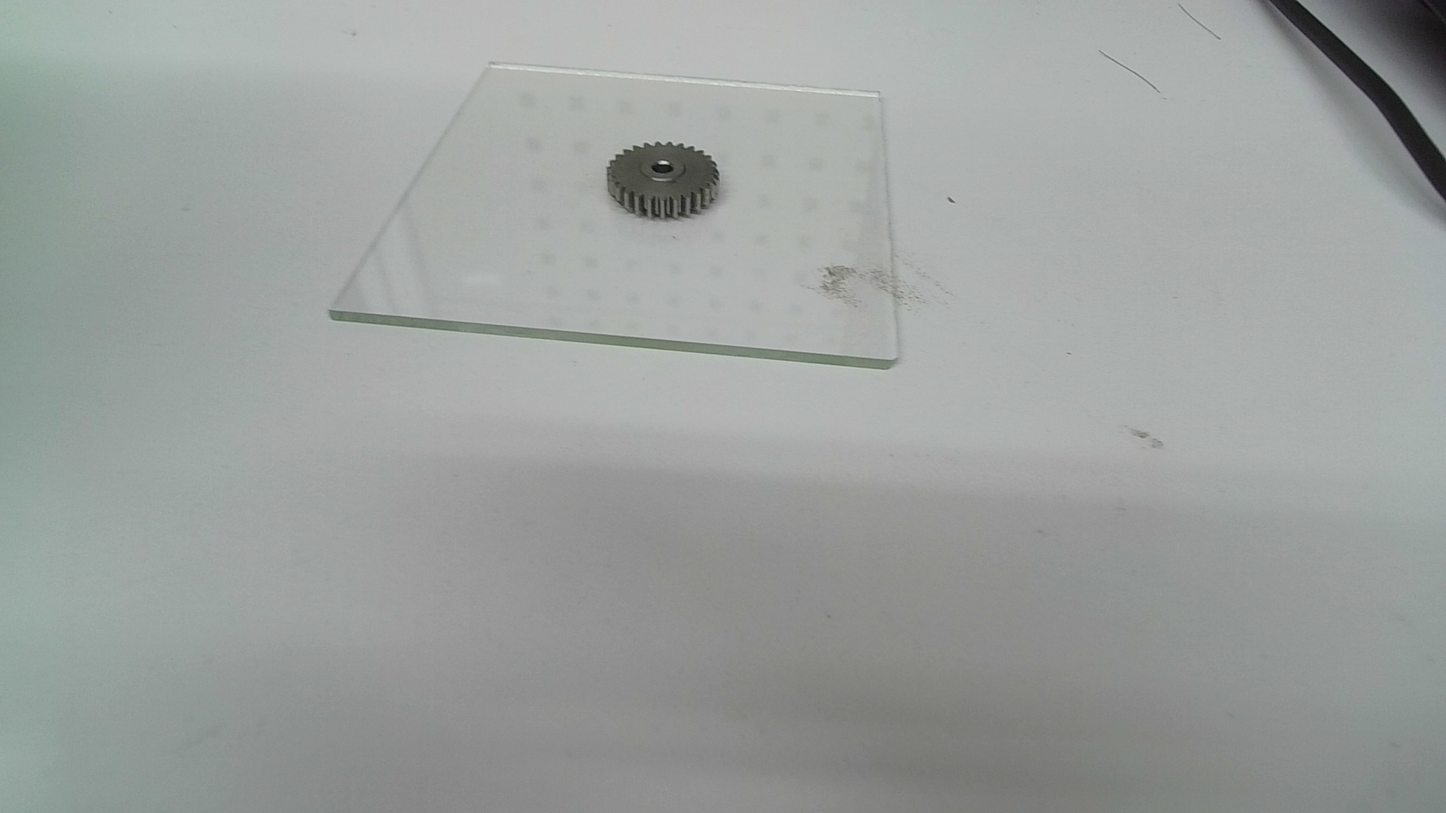gear: (604, 139, 724, 221)
